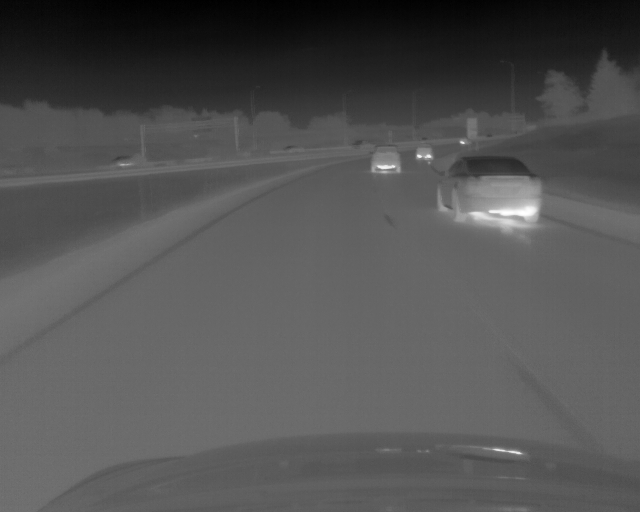car: (436, 155, 544, 222), (370, 145, 401, 172), (109, 155, 139, 165), (415, 143, 432, 160), (280, 145, 302, 153), (459, 138, 471, 145), (367, 142, 378, 149)
